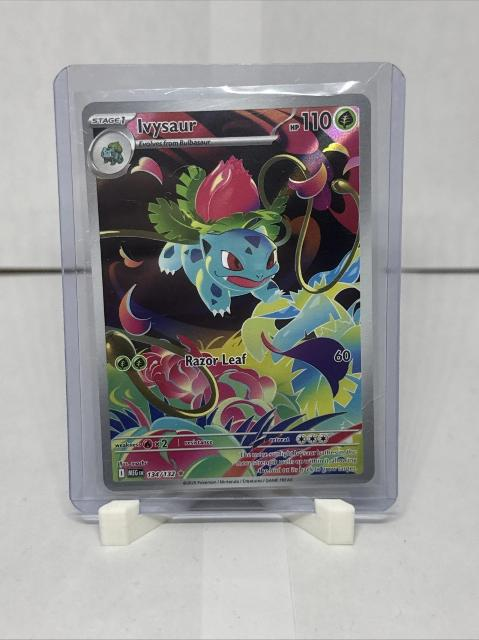Card: (76, 87, 381, 496)
Name: (134, 114, 202, 140)
